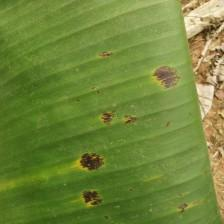pestalotiopsis: (0, 0, 221, 224)
